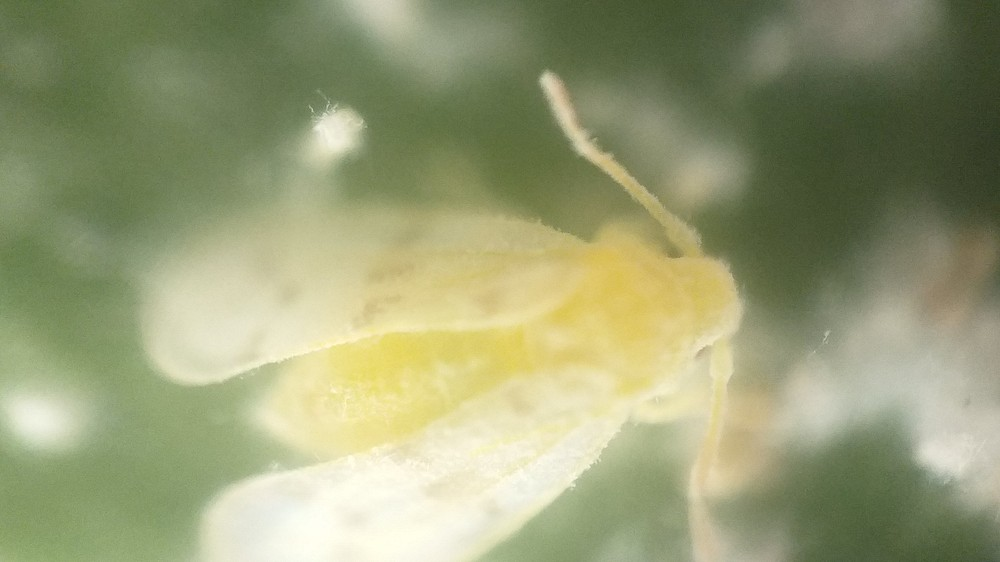Mosca Blanca: (124, 69, 788, 562)
